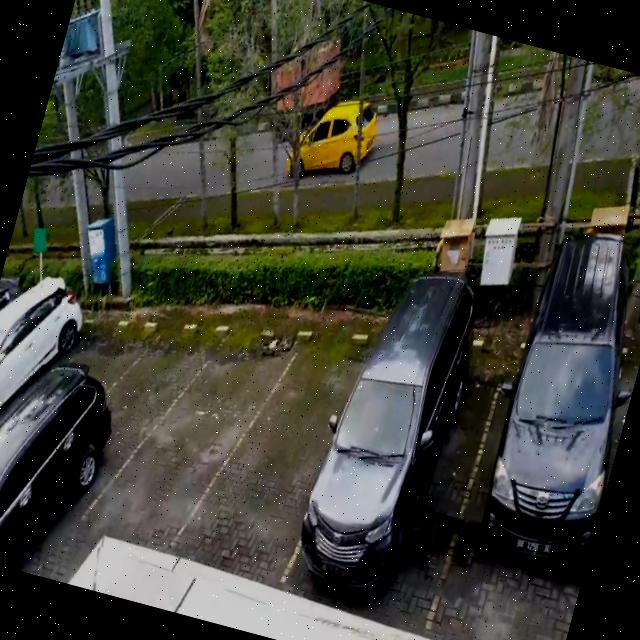empty: (193, 310, 358, 588), (116, 312, 268, 560), (61, 310, 181, 530)
occupied: (280, 304, 508, 628), (428, 296, 640, 640)
